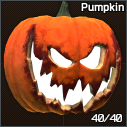Jack-o-lantern tactical pumpkin helmet: (0, 0, 127, 127)
